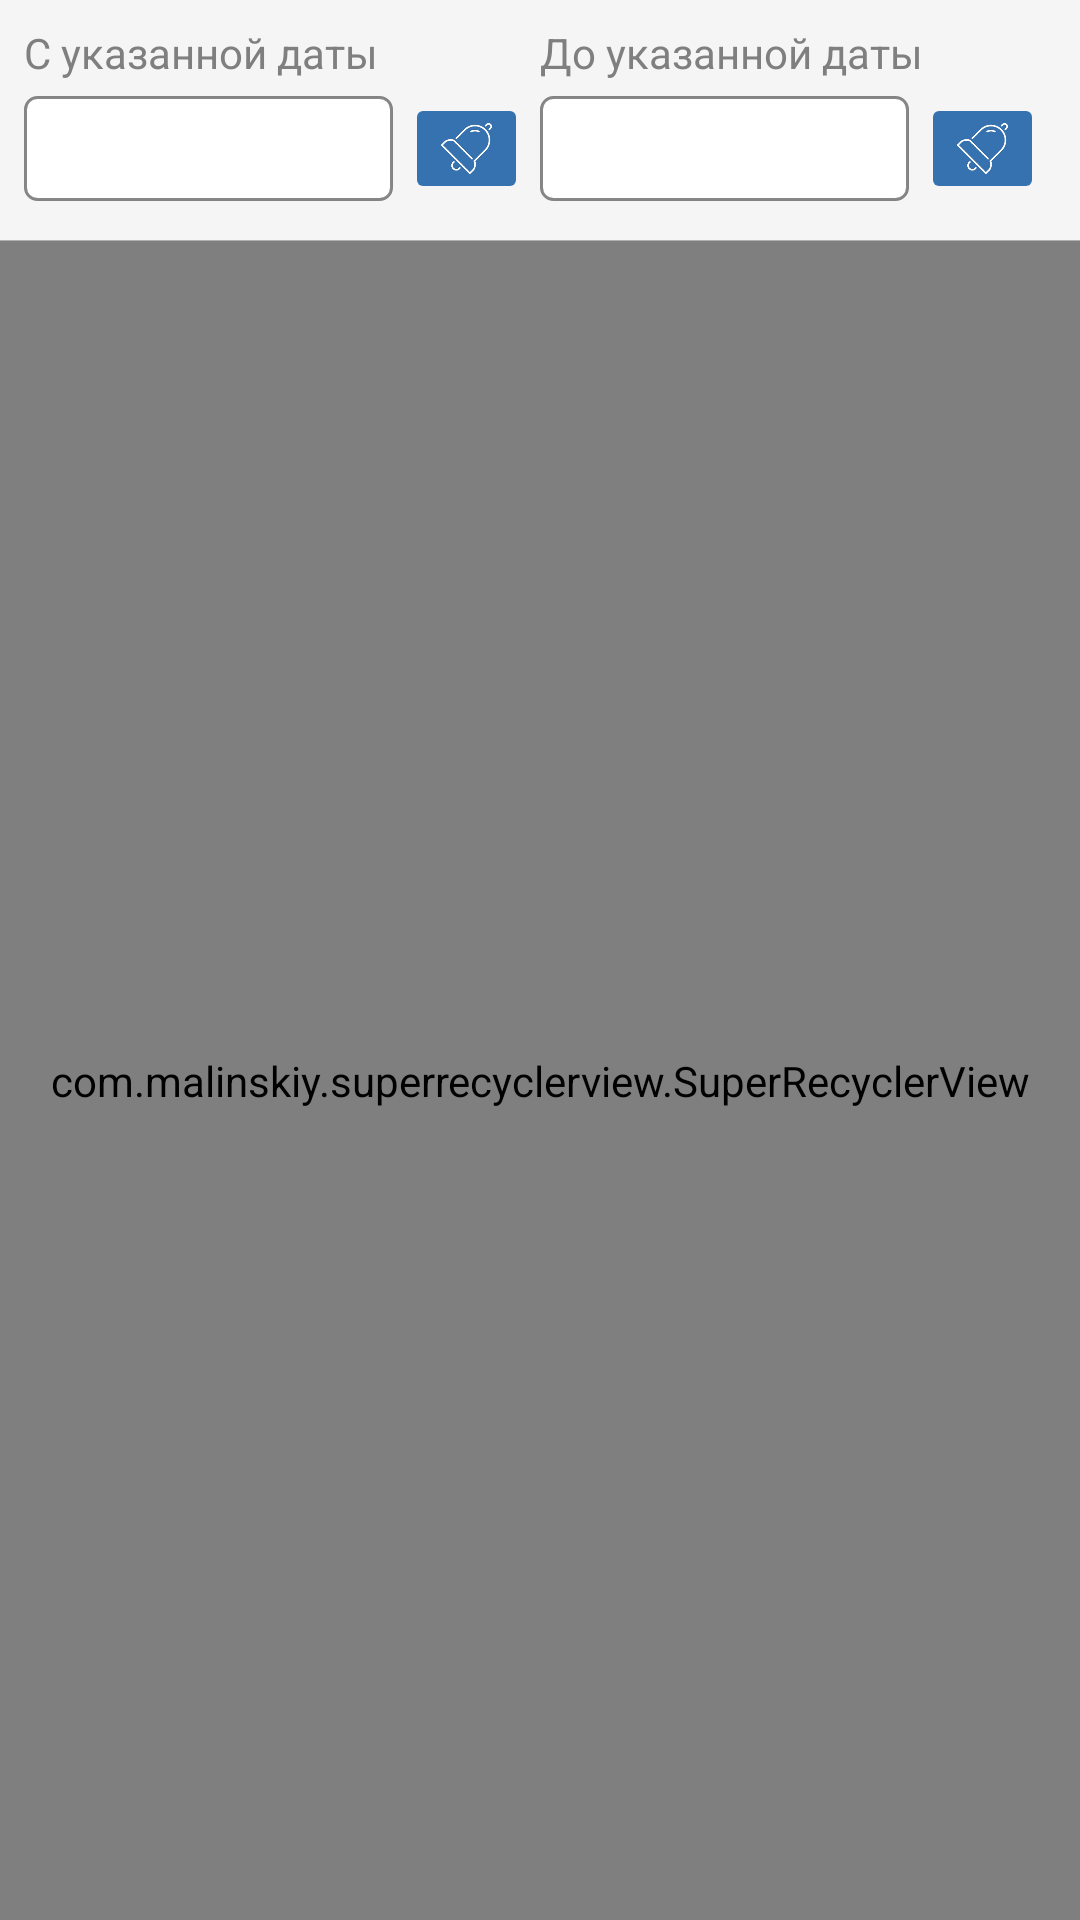

Screen size 1080px x 1920px. Icon name, then its box in pixels as (x1, y1, x2, y2):
bell: (417, 111, 516, 186), (933, 111, 1032, 186)
